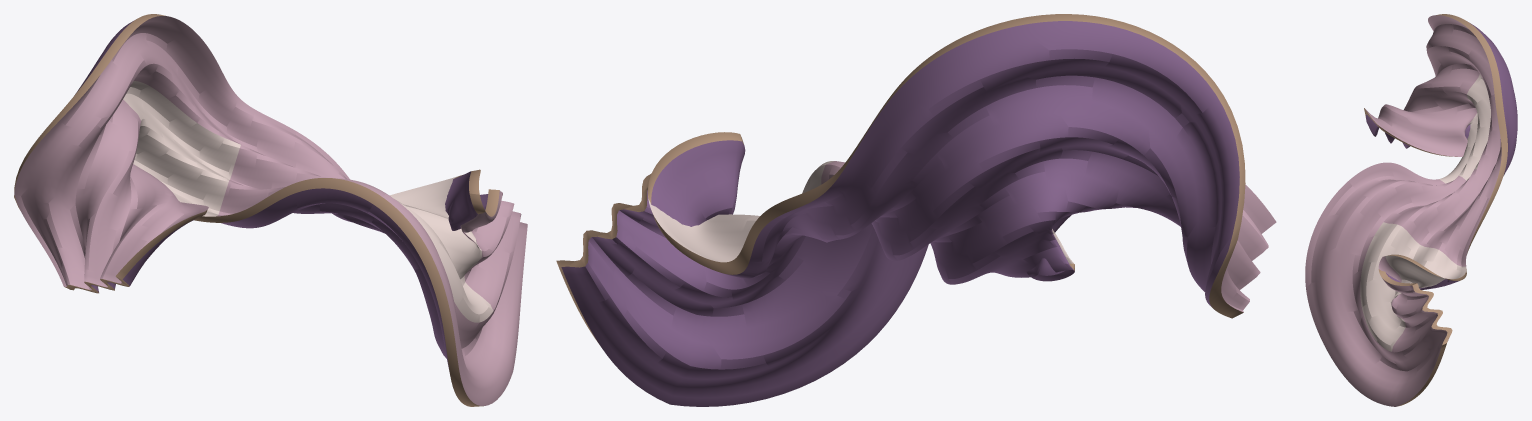
Rendered from parallax-sluice.glb.
3 views of the same model, side by side, from view 1: azimuth 30°, elevation 25°; view 2: azimuth 150°, elevation 25°; view 3: azimuth 270°, elevation 25° (orthographic). The views are drawn at different scales.
Visible parts, largest first — view 1: one_piece_folded_sluice; view 2: one_piece_folded_sluice; view 3: one_piece_folded_sluice.
Part boxes in pixels (<box>): one_piece_folded_sluice: <box>14,14,527,406</box>; one_piece_folded_sluice: <box>556,14,1276,406</box>; one_piece_folded_sluice: <box>1305,14,1517,406</box>.
Size of the model in its own units: 281 by 212 by 147.
